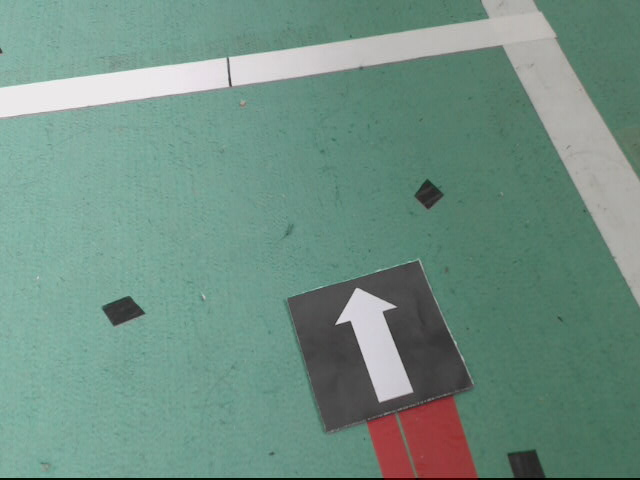straight: (287, 256, 471, 429)
